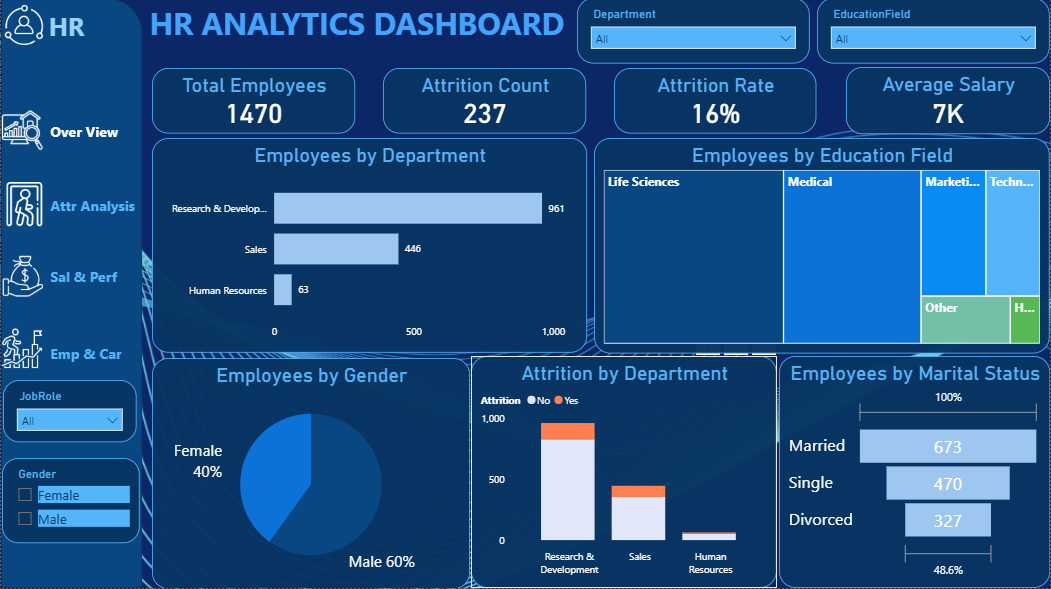

Layout of this report page (visuals, bound fields, positions):
{"tool":"powerbi","page":{"name":" Executive Overview","canvas":[1280,720],"ordinal":0},"visuals":[{"type":"shape","box":[0,0,172.4,720],"z":0,"group":"g1"},{"type":"textbox","box":[173.4,0,521.6,61.8],"z":0},{"type":"group","id":"g1","title":"Group 1","box":[0,0,172.4,720],"z":1000},{"type":"image","box":[0,5.3,55.8,55.8],"z":1000,"group":"g1"},{"type":"slicer","fields":{"Values":["HR Dataset.Department"]},"box":[702.9,0,284.3,80],"z":2000},{"type":"actionButton","box":[55.8,142.2,111.7,39.9],"z":2000,"group":"g1"},{"type":"slicer","fields":{"Values":["HR Dataset.EducationField"]},"box":[995.7,0,284.3,80],"z":3000},{"type":"actionButton","box":[55.8,232.6,111.7,39.9],"z":3000,"group":"g1"},{"type":"actionButton","box":[55.8,320.3,111.7,39.9],"z":4000,"group":"g1"},{"type":"slicer","fields":{"Values":["HR Dataset.Gender"]},"box":[1.5,560.9,167.6,104.4],"z":4000},{"type":"actionButton","box":[55.8,413.4,111.7,39.9],"z":5000,"group":"g1"},{"type":"slicer","fields":{"Values":["HR Dataset.JobRole"]},"box":[2.9,466.7,163.2,76.5],"z":5000},{"type":"card","title":"Total Employees","fields":{"Values":["HR Dataset.Total Employees"]},"box":[184,85.7,248,80],"z":6000},{"type":"image","box":[0,136.9,51.8,49.2],"z":6000,"group":"g1"},{"type":"card","title":"Attrition Rate ","fields":{"Values":["HR Dataset.Attrition Rate"]},"box":[748.6,85.7,247.1,80],"z":7000},{"type":"image","box":[0,224.6,57.2,54.5],"z":7000,"group":"g1"},{"type":"card","title":"Average Salary","fields":{"Values":["HR Dataset.Average Salary"]},"box":[1030.7,84,248.9,81.8],"z":8000},{"type":"image","box":[1.3,312.4,50.5,54.5],"z":8000,"group":"g1"},{"type":"card","title":"Attrition Count","fields":{"Values":["HR Dataset.Attrition Count"]},"box":[466.3,85.7,248,80],"z":9000},{"type":"image","box":[0,401.4,50.5,51.8],"z":9000,"group":"g1"},{"type":"clusteredBarChart","title":"Employees by Department","fields":{"Category":["HR Dataset.Department"],"Y":["CountNonNull(HR Dataset.Employee_ID)"]},"box":[184.1,171.3,531,261.9],"z":10000},{"type":"columnChart","title":"Attrition by Department","fields":{"Category":["HR Dataset.Department"],"Series":["HR Dataset.Attrition"],"Y":["CountNonNull(HR Dataset.Employee_ID)"]},"box":[573.3,437.3,373.3,282.7],"z":11000},{"type":"pieChart","title":"Employees by Gender","fields":{"Category":["HR Dataset.Gender"],"Y":["CountNonNull(HR Dataset.Employee_ID)"]},"box":[184.1,438.9,388,281.8],"z":12000},{"type":"treemap","title":"Employees by Education Field","fields":{"Group":["HR Dataset.EducationField"],"Values":["CountNonNull(HR Dataset.Employee_ID)"]},"box":[724,170.7,556,262.7],"z":13000},{"type":"funnel","title":"Employees by Marital Status","fields":{"Category":["HR Dataset.MaritalStatus"],"Y":["CountNonNull(HR Dataset.Employee_ID)"]},"box":[949,437,331,283],"z":14000}]}

Visuals, with their boxes in screenshot pixels (x1, y1, x2, y2), scaled from the page's 1280x720 canvas onto the 1051x589 screenshot:
shape: <bbox>0, 0, 142, 588</bbox>
textbox: <bbox>142, 0, 571, 51</bbox>
"Group 1" group: <bbox>0, 0, 142, 588</bbox>
image: <bbox>0, 4, 46, 50</bbox>
slicer - HR Dataset.Department: <bbox>577, 0, 811, 65</bbox>
actionButton: <bbox>46, 116, 138, 149</bbox>
slicer - HR Dataset.EducationField: <bbox>818, 0, 1050, 65</bbox>
actionButton: <bbox>46, 190, 138, 223</bbox>
actionButton: <bbox>46, 262, 138, 295</bbox>
slicer - HR Dataset.Gender: <bbox>1, 459, 139, 544</bbox>
actionButton: <bbox>46, 338, 138, 371</bbox>
slicer - HR Dataset.JobRole: <bbox>2, 382, 136, 444</bbox>
"Total Employees" card: <bbox>151, 70, 355, 136</bbox>
image: <bbox>0, 112, 43, 152</bbox>
"Attrition Rate " card: <bbox>615, 70, 818, 136</bbox>
image: <bbox>0, 184, 47, 228</bbox>
"Average Salary" card: <bbox>846, 69, 1050, 136</bbox>
image: <bbox>1, 256, 43, 300</bbox>
"Attrition Count" card: <bbox>383, 70, 587, 136</bbox>
image: <bbox>0, 328, 41, 371</bbox>
"Employees by Department" clusteredBarChart: <bbox>151, 140, 587, 354</bbox>
"Attrition by Department" columnChart: <bbox>471, 358, 777, 588</bbox>
"Employees by Gender" pieChart: <bbox>151, 359, 470, 588</bbox>
"Employees by Education Field" treemap: <bbox>594, 140, 1050, 355</bbox>
"Employees by Marital Status" funnel: <bbox>779, 357, 1050, 588</bbox>
